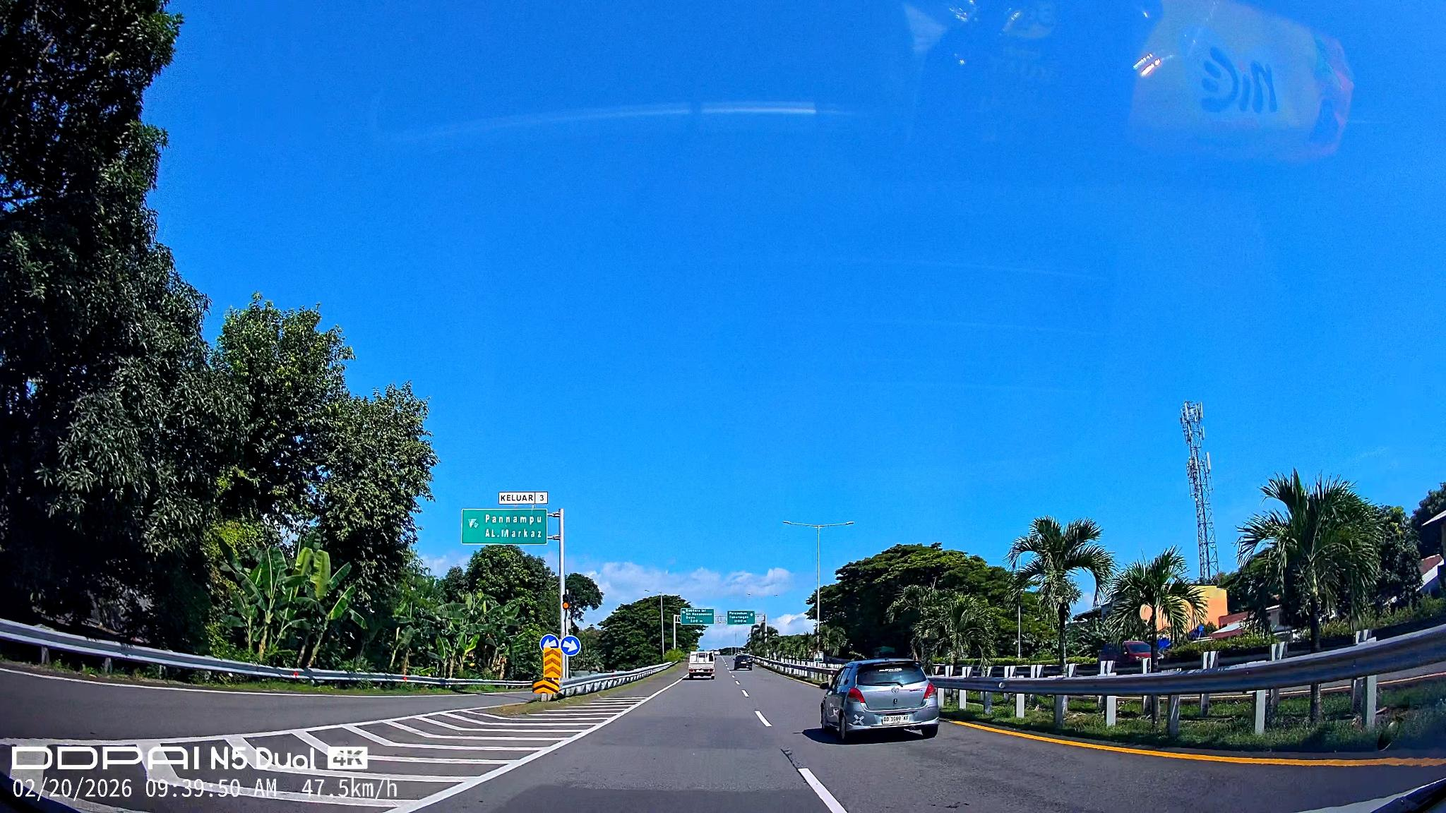rambu_teks: (461, 508, 548, 546)
